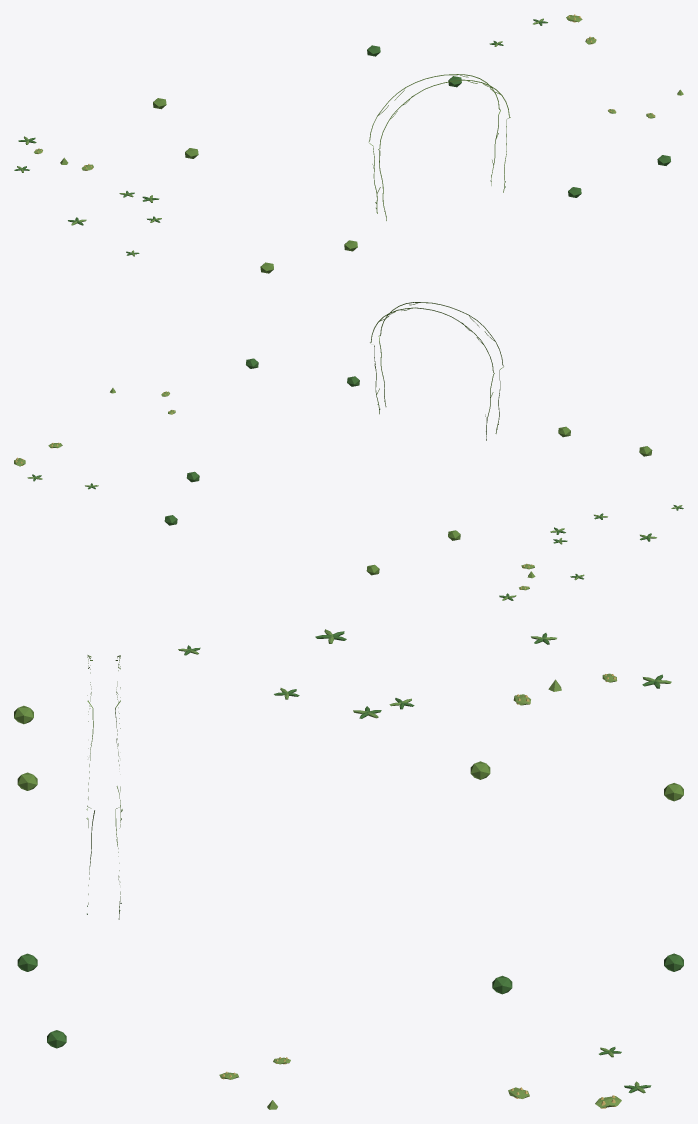
File: boss_sanctuary_nonsolid_props.fbx
The picture shows the model from 3 angles, top to bottom: view 1: azimuth 30°, elevation 25°; view 2: azimuth 150°, elevation 25°; view 3: azimuth 270°, elevation 25°; orthographic projection. The views are drawn at different scales.
Visible parts, largest first — view 1: chunk_boss_sanctuary__PropsNonSolid; view 2: chunk_boss_sanctuary__PropsNonSolid; view 3: chunk_boss_sanctuary__PropsNonSolid.
Boxes of the visible parts, bbox=[...] form: chunk_boss_sanctuary__PropsNonSolid: bbox=[14, 14, 683, 273]; chunk_boss_sanctuary__PropsNonSolid: bbox=[14, 302, 683, 600]; chunk_boss_sanctuary__PropsNonSolid: bbox=[14, 629, 683, 1109].
Size of the model in its own units: 309 by 64.44 by 183.
